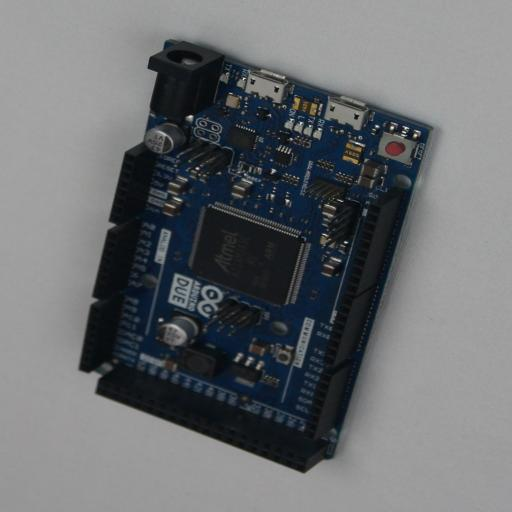Arduino Due: (79, 39, 433, 473)
